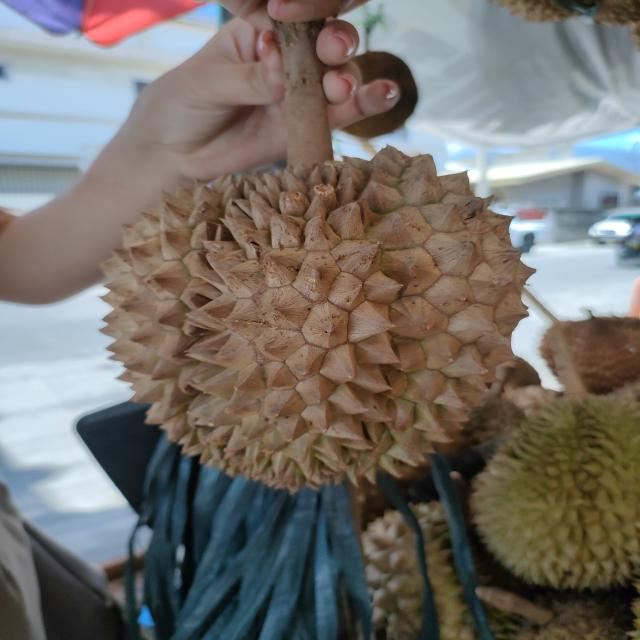mature: (96, 144, 535, 498)
